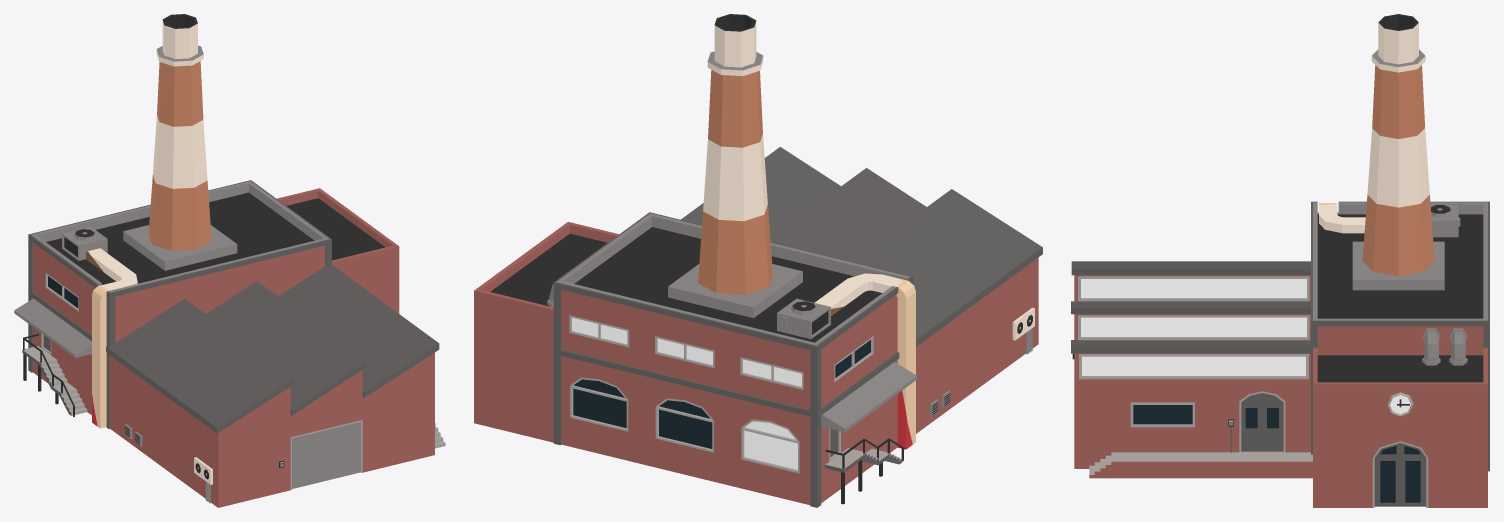
File: industry-factory-old.glb
The picture shows the model from 3 angles, left to right: view 1: azimuth 30°, elevation 25°; view 2: azimuth 150°, elevation 25°; view 3: azimuth 270°, elevation 25°; orthographic projection. The views are drawn at different scales.
Visible parts, largest first — view 1: industry-factory-old; view 2: industry-factory-old; view 3: industry-factory-old.
Boxes of the visible parts, left/top/right/bottom form: industry-factory-old: left=14, top=14, right=445, bottom=507; industry-factory-old: left=474, top=14, right=1042, bottom=507; industry-factory-old: left=1071, top=14, right=1489, bottom=507.
Bounding box in the file's own units: 21.55 × 23.3 × 22.75.
1 material, 1 textured.
